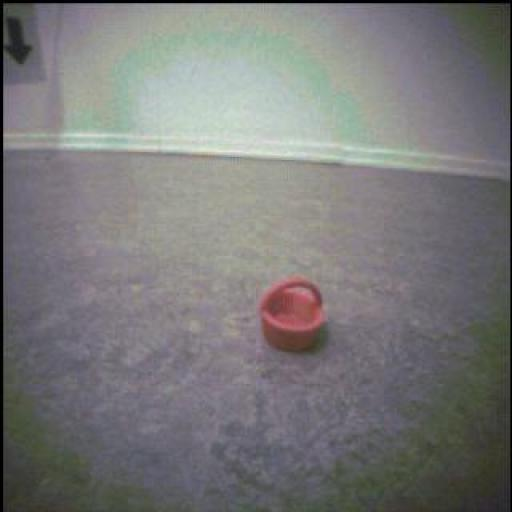Arrow: (6, 19, 33, 65)
Bucket: (258, 276, 331, 352)
